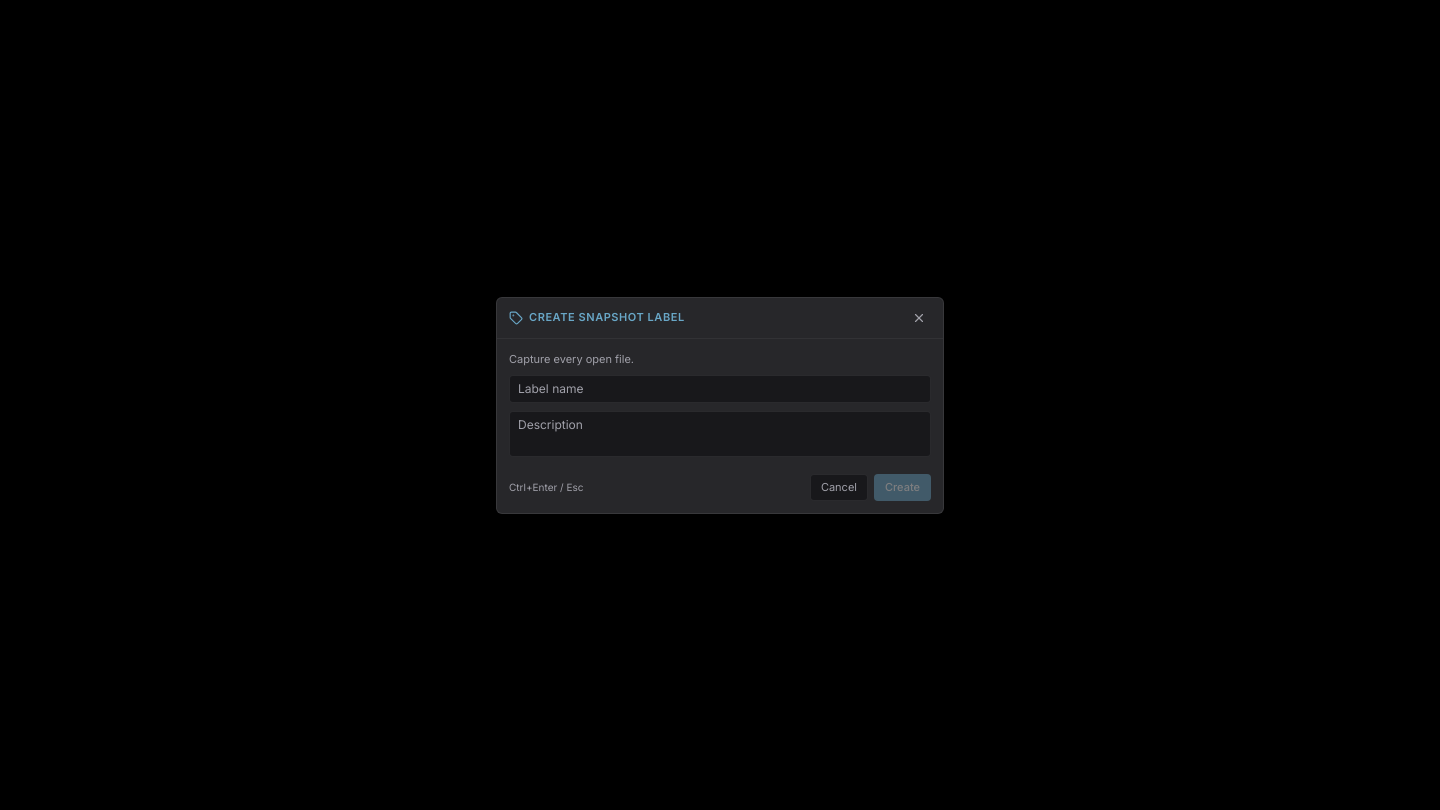
Scenario: NewLabelDialog › opens as a labelled form dialog with readable shortcut hints and button states
Check: the text "Ctrl+Enter / Esc" is shown, box 509,480 -> 584,495
Check: the button "Create" is disabled, box 874,474 -> 931,500
Type "Draft checkpoint" into the field labelled "Label name".
click(720, 389); type("Draft checkpoint")  # box 509,375 -> 931,403
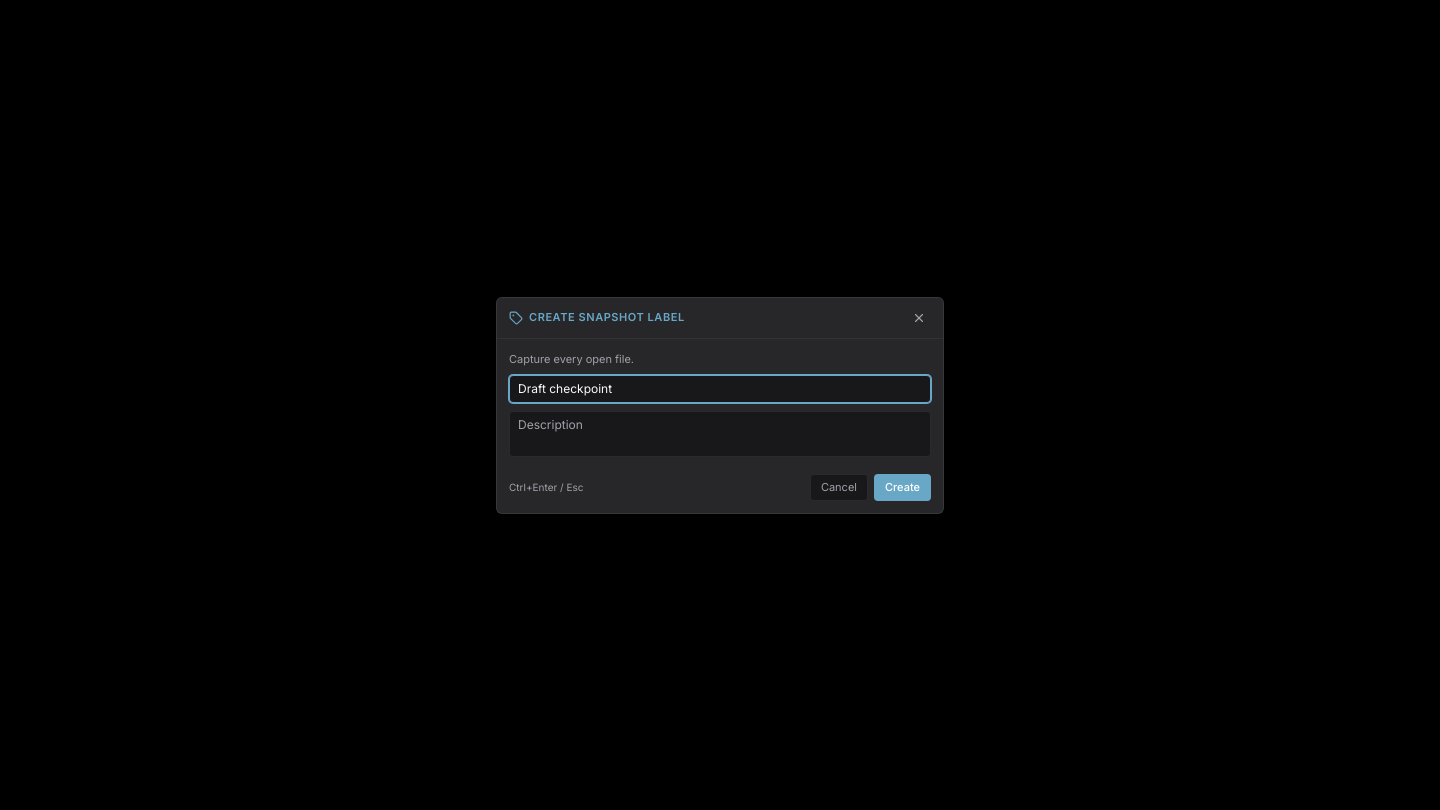
Check: the button "Create" is enabled, box 874,474 -> 931,500
